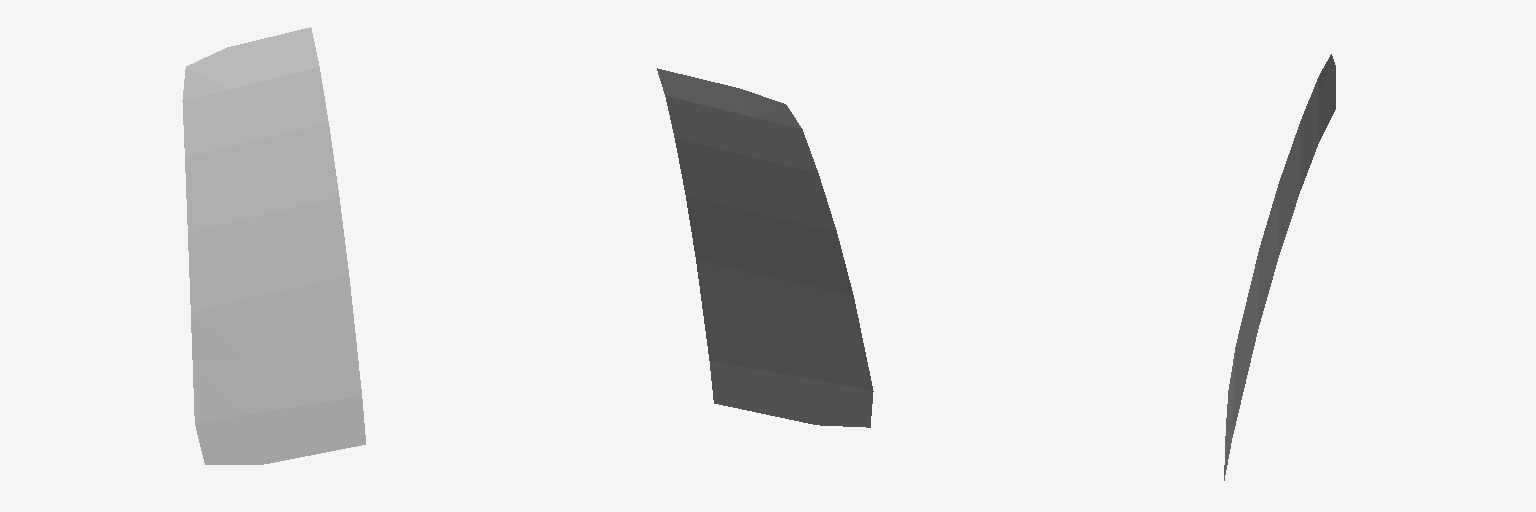
The picture shows the model from 3 angles: view 1: azimuth 30°, elevation 25°; view 2: azimuth 150°, elevation 25°; view 3: azimuth 270°, elevation 25°; orthographic projection.
Visible parts, largest first — view 1: J725_324H_R_DTaSI_J725_324H_R; view 2: J725_324H_R_DTaSI_J725_324H_R; view 3: J725_324H_R_DTaSI_J725_324H_R.
Boxes of the visible parts, x1=… form: J725_324H_R_DTaSI_J725_324H_R: x1=182, y1=27, x2=365, y2=464; J725_324H_R_DTaSI_J725_324H_R: x1=657, y1=68, x2=873, y2=427; J725_324H_R_DTaSI_J725_324H_R: x1=1224, y1=54, x2=1335, y2=480.
Size of the model in its own units: 29.03 by 62.57 by 16.94.